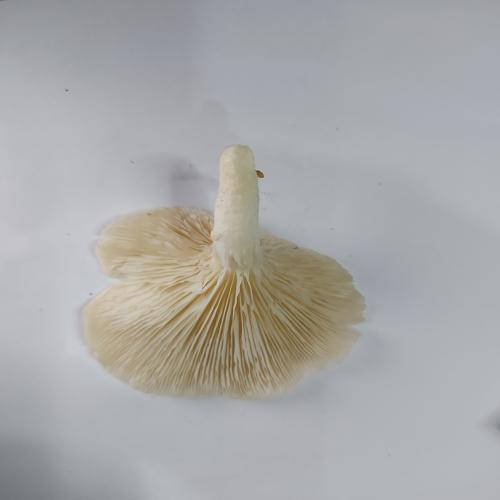Oyster Mushroom: (80, 143, 367, 399)
